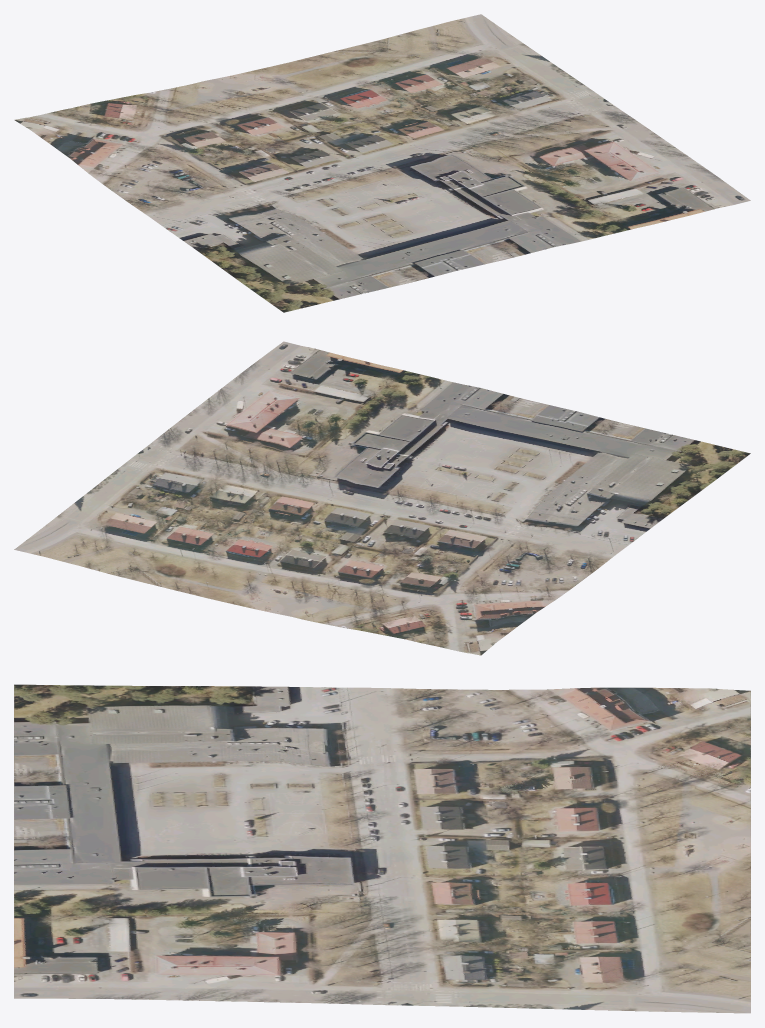
Rendered from CM_Terrain_24489025_6819180.fbx.
The picture shows the model from 3 angles, top to bottom: view 1: azimuth 30°, elevation 25°; view 2: azimuth 150°, elevation 25°; view 3: azimuth 270°, elevation 25°; orthographic projection. The views are drawn at different scales.
Parts seen in each view (by area): view 1: CM_Terrain_24489025_6819180_LOD0; view 2: CM_Terrain_24489025_6819180_LOD0; view 3: CM_Terrain_24489025_6819180_LOD0.
Part boxes in pixels (x1,y1,x2,y2): CM_Terrain_24489025_6819180_LOD0: [14, 14, 750, 312]; CM_Terrain_24489025_6819180_LOD0: [14, 341, 750, 655]; CM_Terrain_24489025_6819180_LOD0: [14, 684, 750, 1013].
Size of what is drawn, in the model's own units: 205 by 5.95 by 205.
